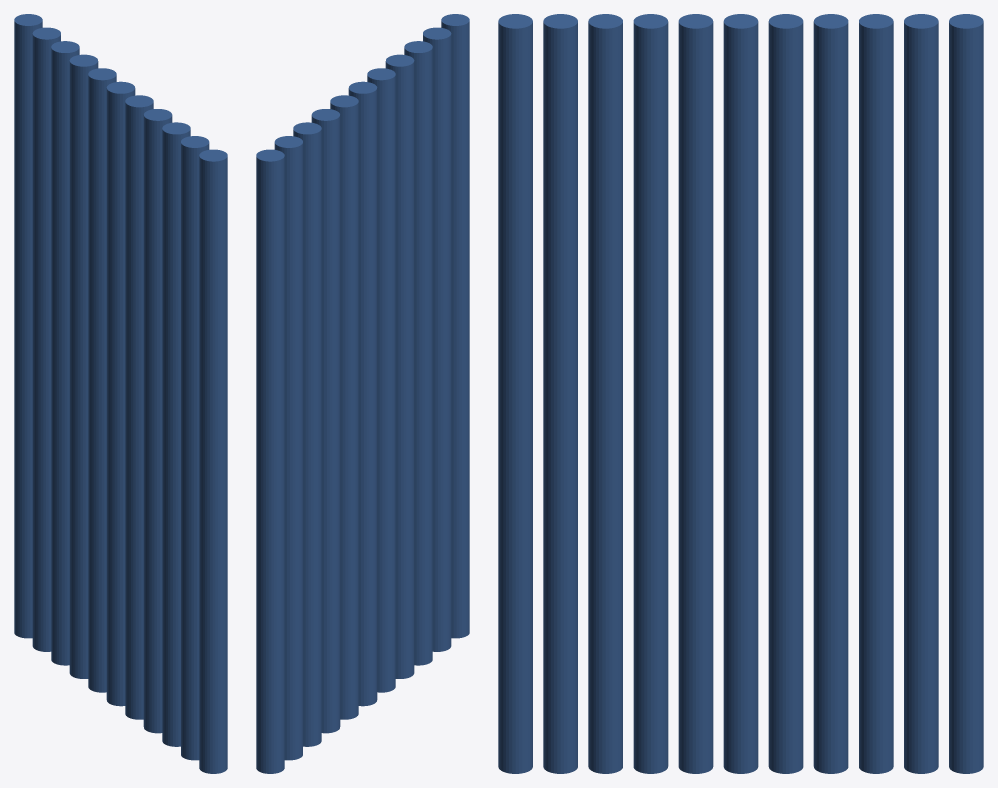
The model's file is Grade_Gelo.fbx.
The picture shows the model from 3 angles, left to right: view 1: azimuth 30°, elevation 25°; view 2: azimuth 150°, elevation 25°; view 3: azimuth 270°, elevation 25°; orthographic projection. The views are drawn at different scales.
Parts seen in each view (by area): view 1: Grade_Gelo; view 2: Grade_Gelo; view 3: Grade_Gelo.
Part boxes in pixels (x1,y1,x2,y2): Grade_Gelo: [14, 14, 227, 773]; Grade_Gelo: [256, 14, 469, 773]; Grade_Gelo: [498, 14, 983, 773].
Size of the model in its own units: 100 by 2372 by 1400.
